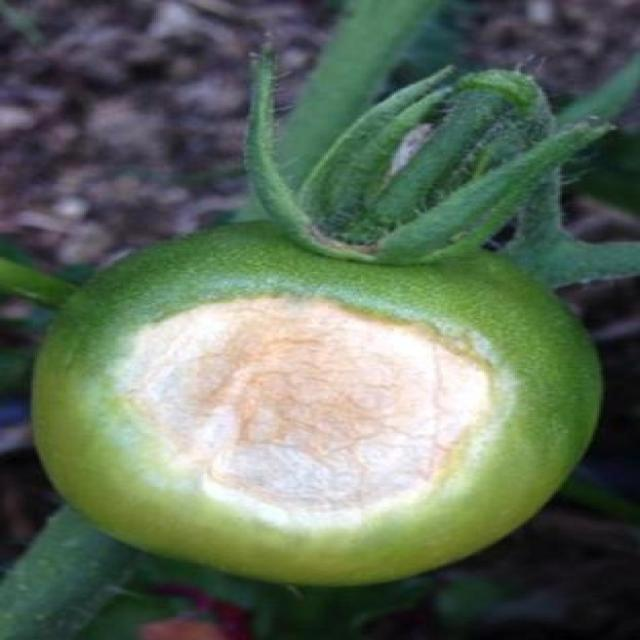Sunscald Fruit: (62, 177, 341, 357)
